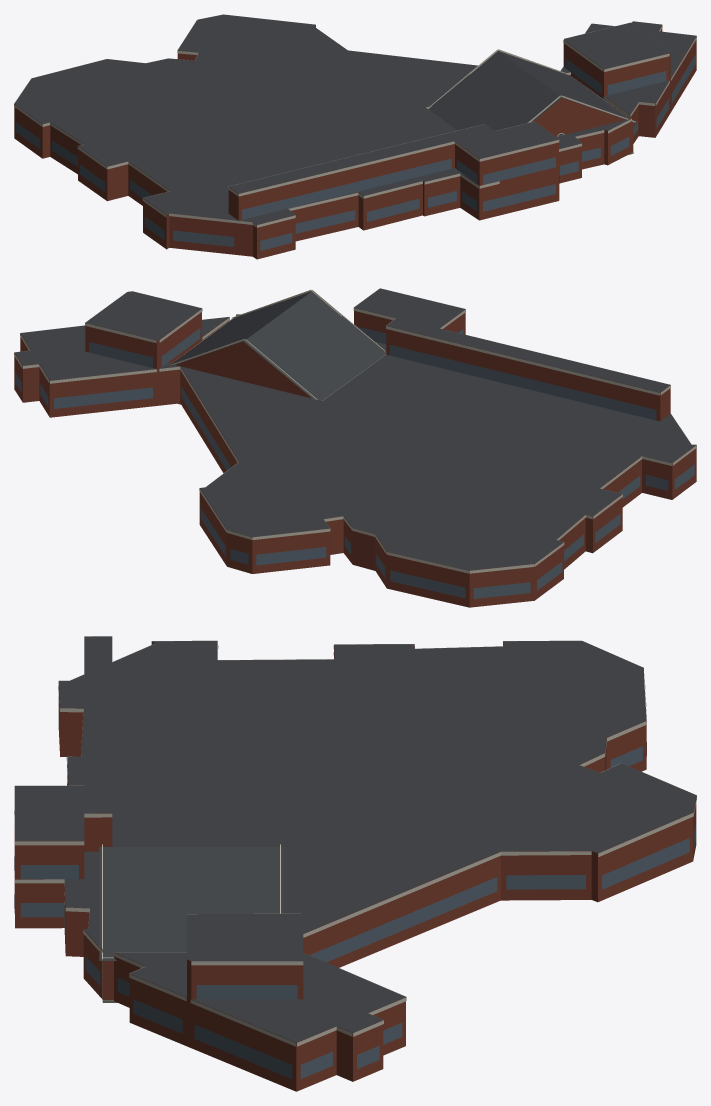
Rendered from parkway-place-baptist.glb.
3 renders of one model, top to bottom at view 1: azimuth 30°, elevation 25°; view 2: azimuth 150°, elevation 25°; view 3: azimuth 270°, elevation 25°, orthographic. The views are drawn at different scales.
Visible parts, largest first — view 1: parkway_place_baptist; view 2: parkway_place_baptist; view 3: parkway_place_baptist.
Boxes of the visible parts, x1,y1,x2,y2 form: parkway_place_baptist: (14, 14, 696, 259); parkway_place_baptist: (14, 288, 696, 607); parkway_place_baptist: (14, 636, 696, 1091).
Bounding box in the file's own units: 102 × 12.84 × 73.31.
